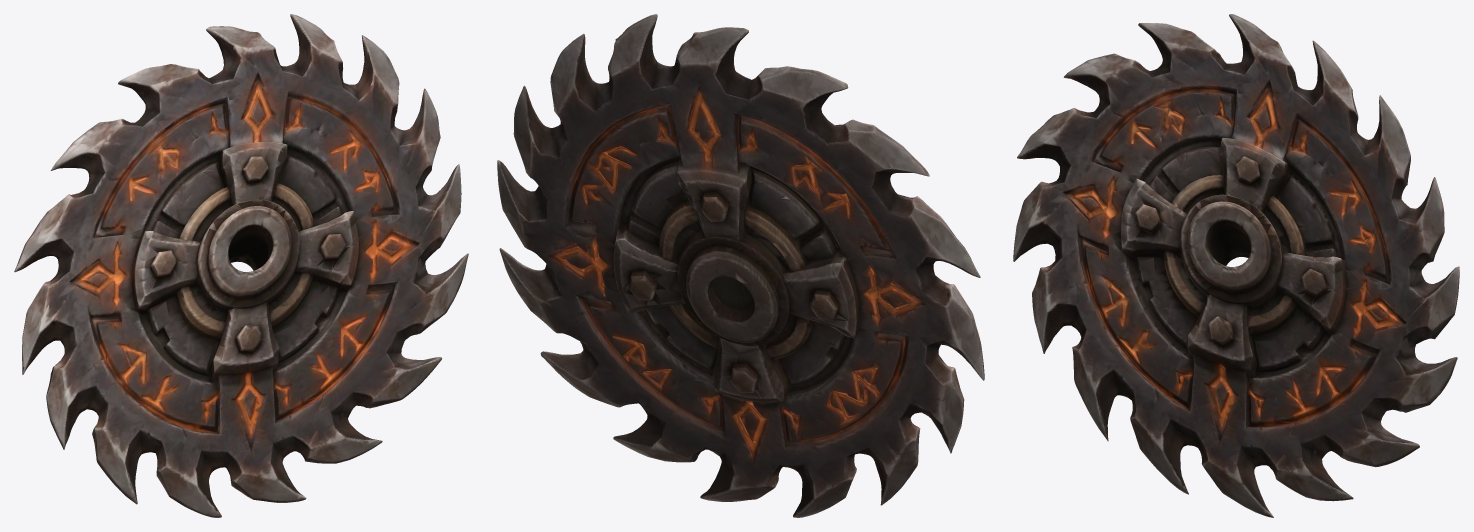
The model's file is RunicSaw.fbx.
3 renders of one model, left to right at view 1: azimuth 30°, elevation 25°; view 2: azimuth 150°, elevation 25°; view 3: azimuth 330°, elevation 25°, orthographic. The views are drawn at different scales.
Parts seen in each view (by area): view 1: RunicSaw; view 2: RunicSaw; view 3: RunicSaw.
Part boxes in pixels (left/top/right/bottom): RunicSaw: left=14, top=14, right=468, bottom=517; RunicSaw: left=497, top=14, right=984, bottom=517; RunicSaw: left=1013, top=14, right=1459, bottom=517.
Size of the model in its own units: 185 by 185 by 22.
Materials: 1 (1 with a texture image).
